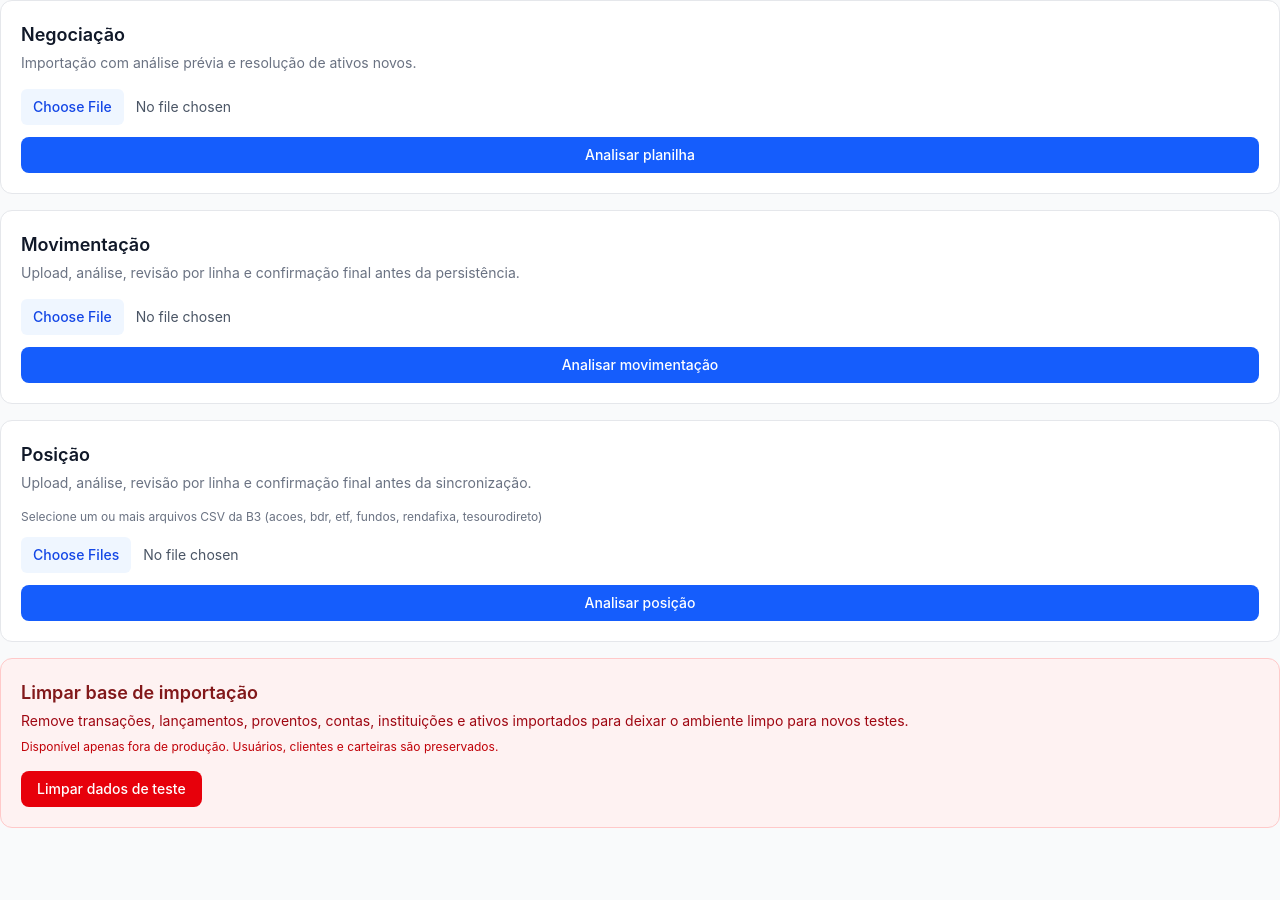
ImportPageClient wizard › Step 3 exibe contagem de classes a criar no resumo
This screenshot has width=1280, height=900.
Submit the form "Analisar planilha", box [21,89,1259,173]
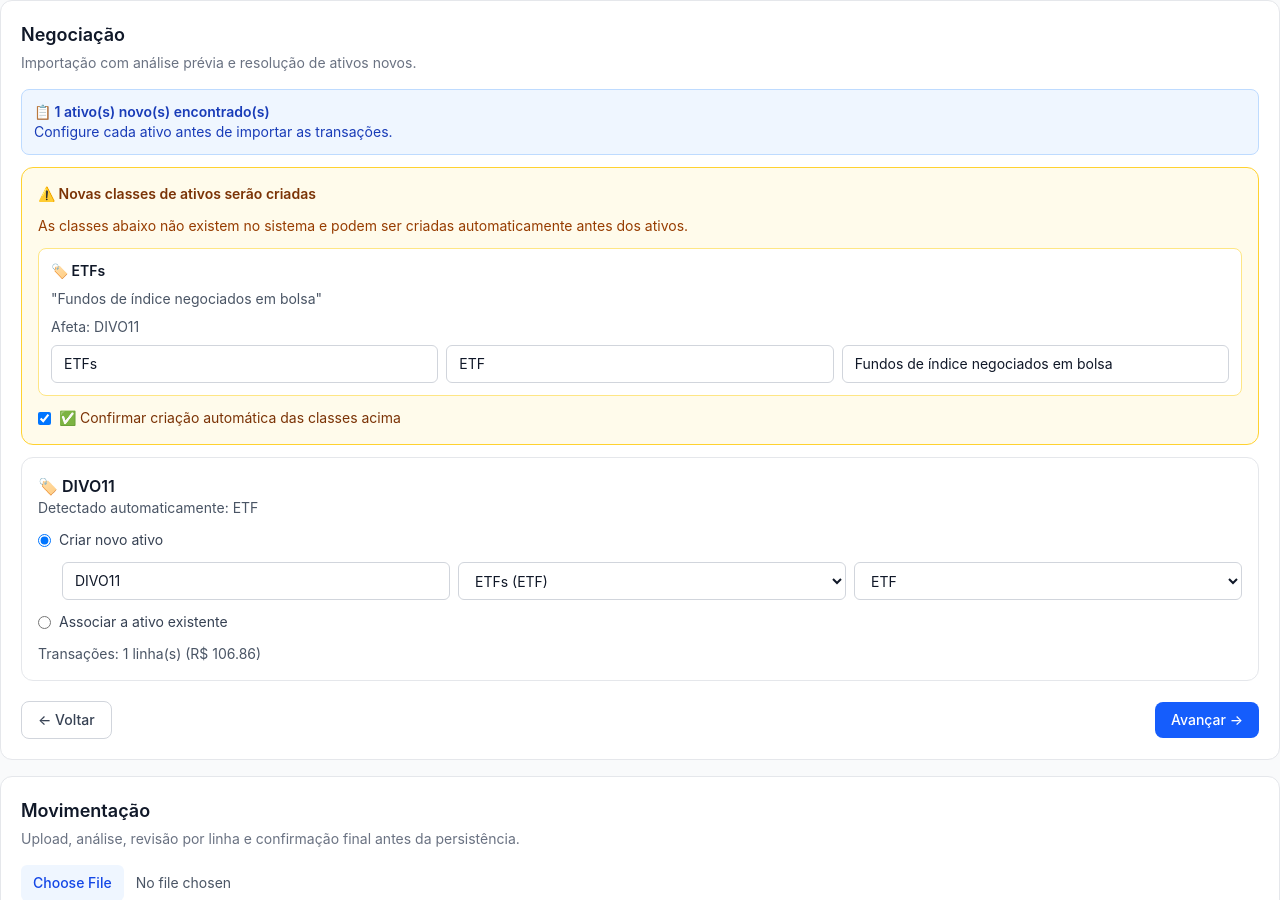
Check: the button "Avançar →" is shown
Click the button "Avançar →" at x=1207, y=720, box [1155,702,1259,738]
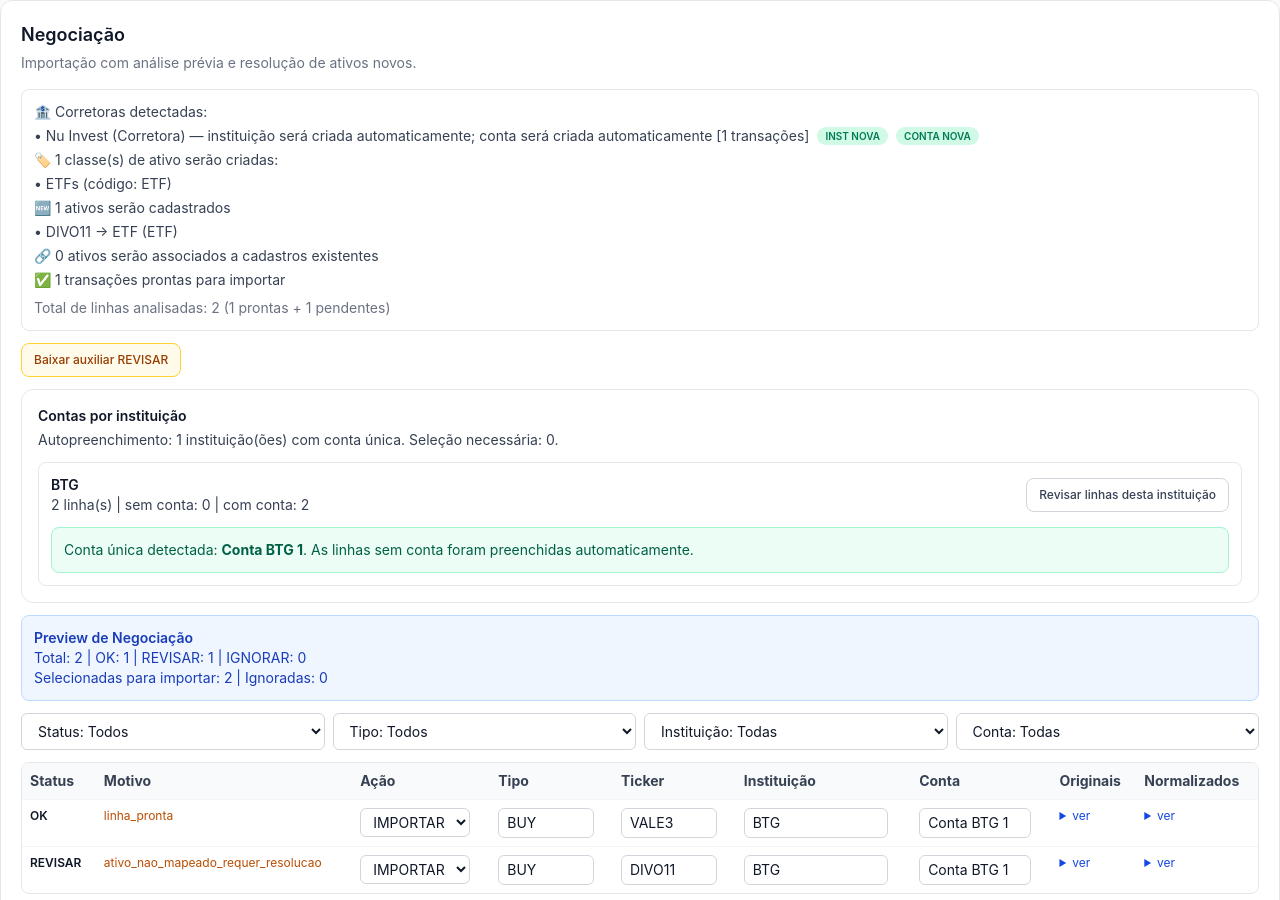
Check: the text "🏷️ 1 classe(s) de ativo serão criadas:" is shown, box [34,151,278,168]
Check: the text "• ETFs (código: ETF)" is shown, box [34,175,172,192]
